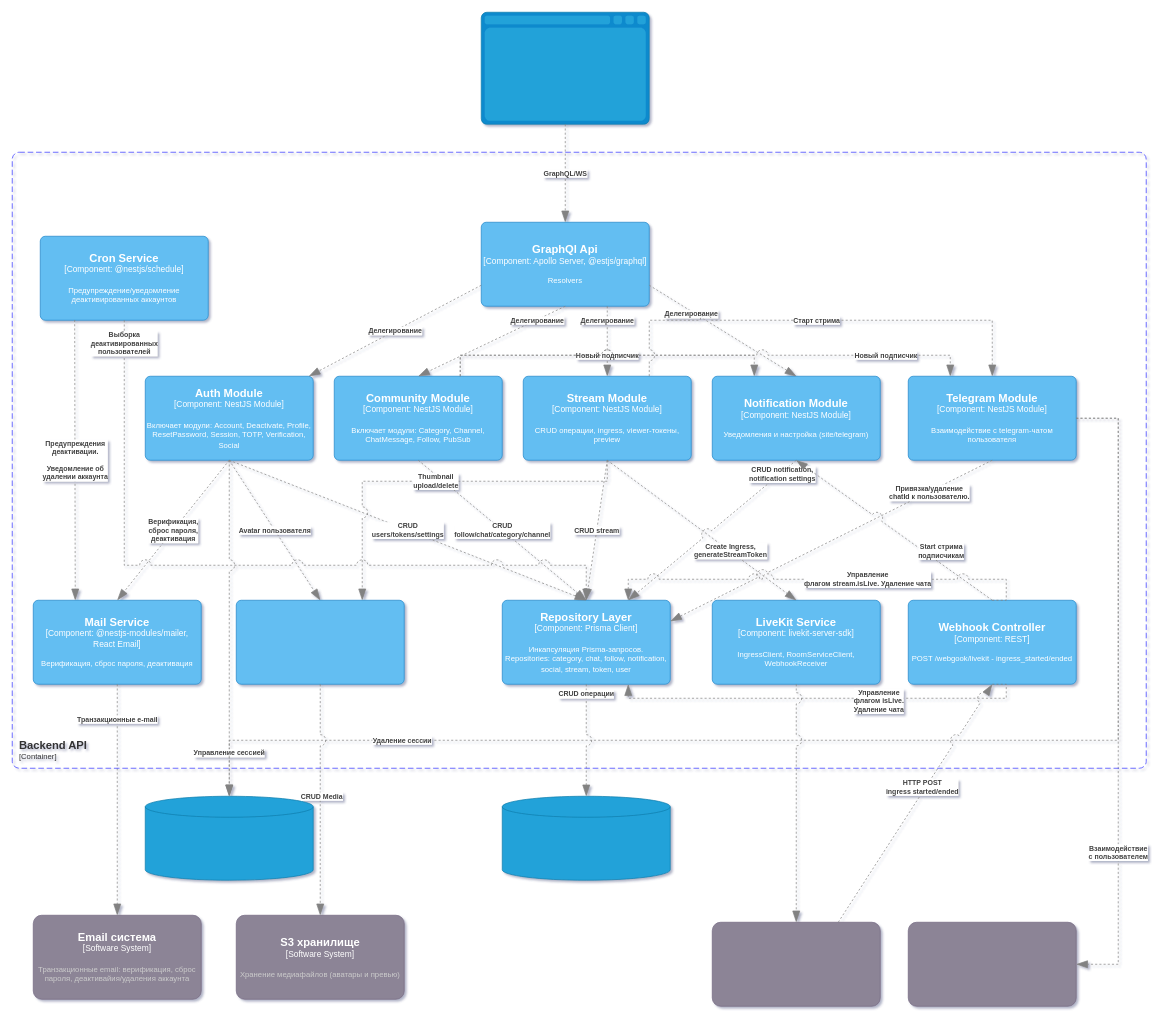
The diagram is 1164 pixels wide and 1023 high, and some of its shapes have lost their labels. The shapes that lost their labels are listed below. From the top down, each one's centre as x and y in pixels, then its label:
At point (565, 68): "Web App [Container: NextJS, TS] Интерфейс приложения".
At point (320, 642): "Storage Service [Component: AWS SDK S3] CRUD медиа".
At point (229, 838): "Redis [Container: Redis 7] Сессии пользователя".
At point (586, 838): "PostresSql [Container: PostreSQL 15] Основные данные приложения".
At point (796, 964): "LiveKit [Software System] WebRTC/RTMP-сервер: ingress, комнаты, медиапоток".
At point (992, 964): "Telegram [Software System] Отправка уведомления и взаимодействие с пользователем".
